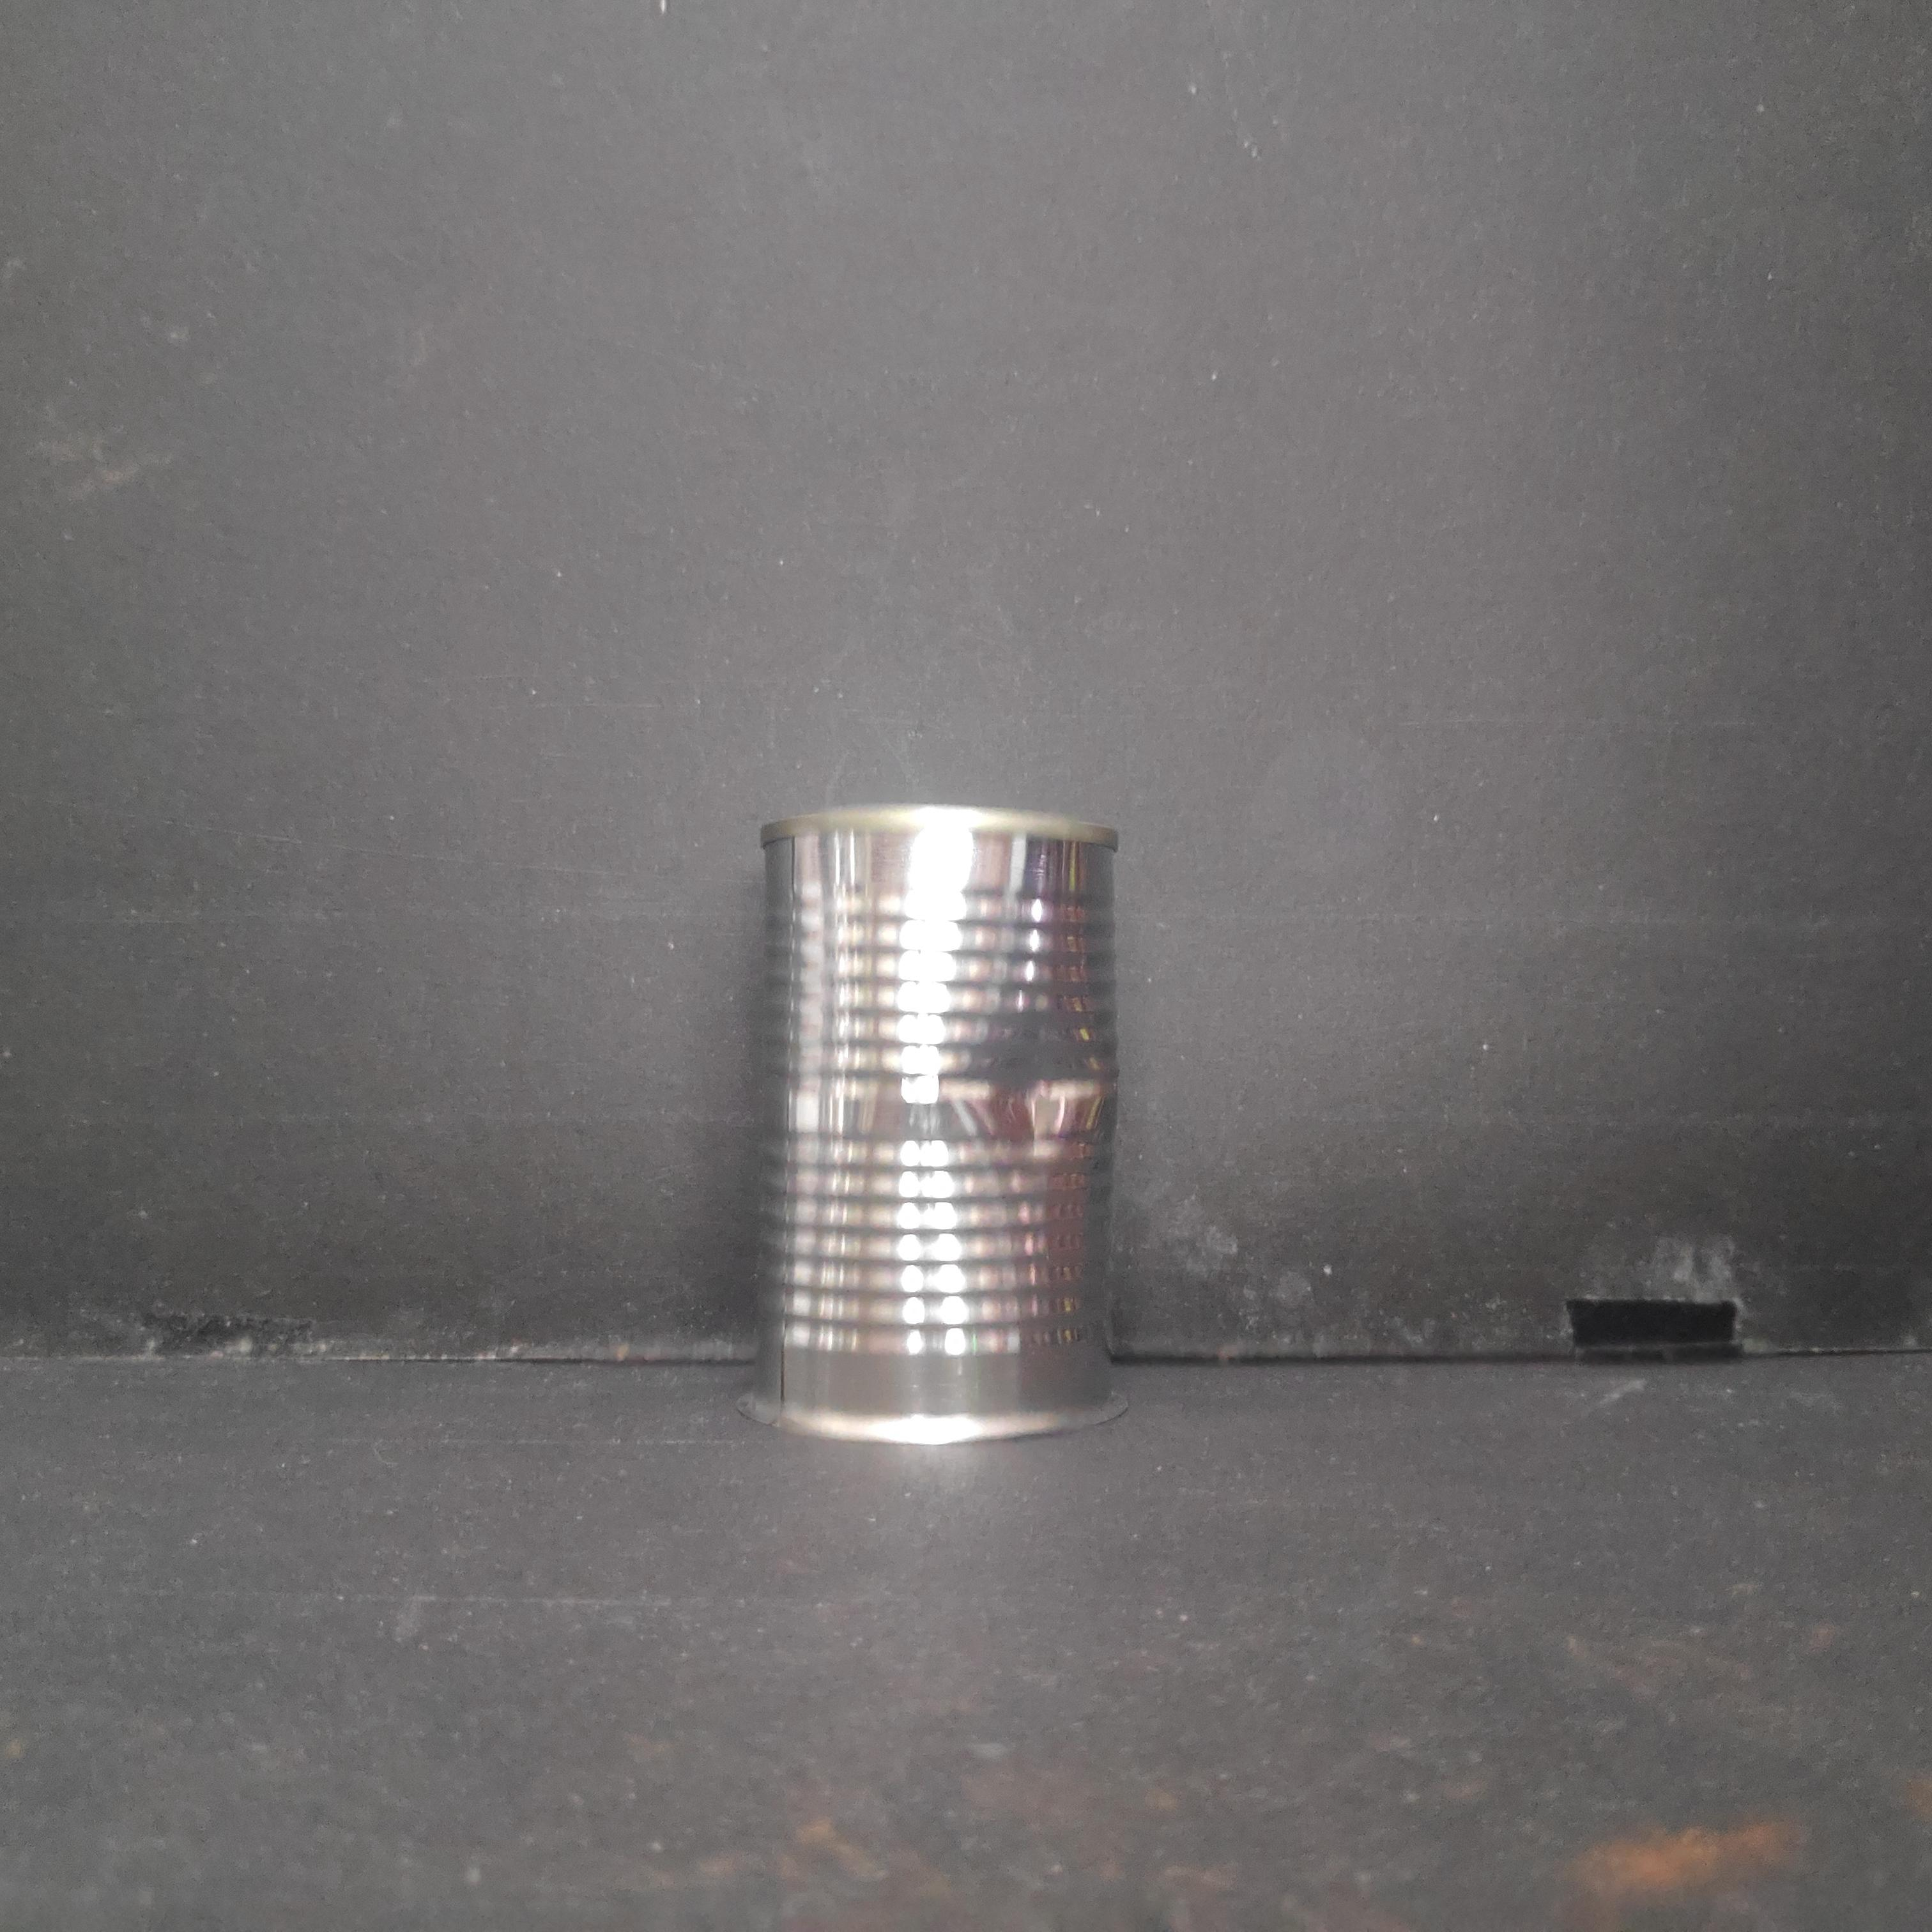Minor Defect: (746, 790, 1135, 1453)
